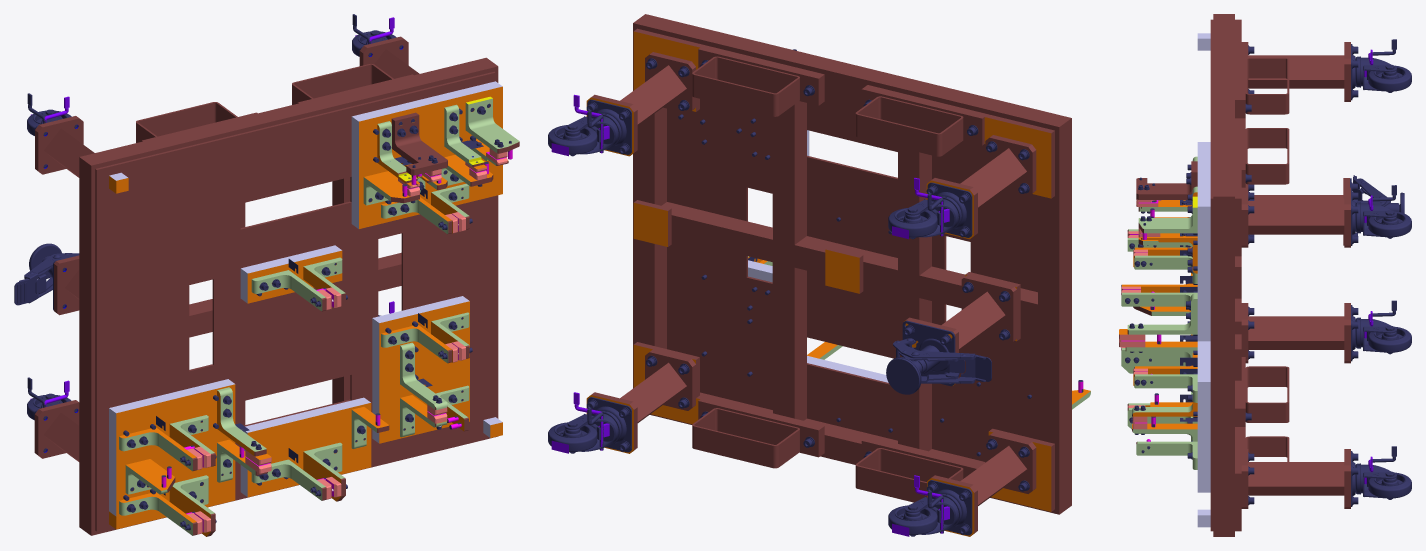
The model's file is TJ146706_D-SPAR+RIB-KUMITSUKE_K00_261102_JIG.obj.
3 renders of one model, left to right at view 1: azimuth 30°, elevation 25°; view 2: azimuth 150°, elevation 25°; view 3: azimuth 270°, elevation 25°, orthographic. The views are drawn at different scales.
Parts seen in each view (by area): view 1: Shell_009, Shell_017, Shell_021, Shell_019, Shell_000, Shell_002, Shell_018, Shell_020, Shell_033, Shell_041, Shell_428, Shell_004 (+34 smaller); view 2: Shell_009, Shell_002, Shell_004, Shell_000, Shell_003, Shell_008, Shell_041, Shell_049, Shell_033, Shell_006, Shell_025, Shell_011 (+35 smaller); view 3: Shell_003, Shell_000, Shell_072, Shell_087, Shell_102, Shell_057, Shell_021, Shell_019, Shell_009, Shell_041, Shell_033, Shell_025 (+41 smaller).
Boxes of the visible parts, x1=… form: Shell_009: x1=95, y1=71, x2=495, y2=531; Shell_017: x1=109, y1=379, x2=235, y2=529; Shell_021: x1=351, y1=81, x2=502, y2=228; Shell_019: x1=372, y1=296, x2=469, y2=443; Shell_000: x1=80, y1=57, x2=497, y2=168; Shell_002: x1=79, y1=157, x2=95, y2=535; Shell_018: x1=240, y1=397, x2=371, y2=497; Shell_020: x1=240, y1=245, x2=342, y2=303; Shell_033: x1=292, y1=64, x2=393, y2=104; Shell_041: x1=136, y1=102, x2=237, y2=142; Shell_428: x1=391, y1=112, x2=447, y2=175; Shell_004: x1=189, y1=252, x2=401, y2=337; Shell_009: x1=667, y1=92, x2=1037, y2=461; Shell_002: x1=1038, y1=118, x2=1071, y2=514; Shell_004: x1=661, y1=202, x2=1037, y2=326; Shell_000: x1=633, y1=14, x2=1071, y2=130; Shell_003: x1=633, y1=23, x2=666, y2=388; Shell_008: x1=773, y1=262, x2=806, y2=420; Shell_041: x1=855, y1=96, x2=963, y2=156; Shell_049: x1=692, y1=408, x2=799, y2=468; Shell_033: x1=692, y1=56, x2=799, y2=116; Shell_006: x1=773, y1=101, x2=806, y2=244; Shell_025: x1=855, y1=448, x2=963, y2=502; Shell_011: x1=864, y1=85, x2=1054, y2=198; Shell_003: x1=1213, y1=196, x2=1234, y2=536; Shell_000: x1=1213, y1=14, x2=1234, y2=196; Shell_072: x1=1248, y1=316, x2=1344, y2=349; Shell_087: x1=1248, y1=201, x2=1344, y2=234; Shell_102: x1=1248, y1=462, x2=1344, y2=495; Shell_057: x1=1248, y1=55, x2=1344, y2=88; Shell_021: x1=1197, y1=142, x2=1210, y2=305; Shell_019: x1=1197, y1=341, x2=1210, y2=492; Shell_009: x1=1210, y1=19, x2=1213, y2=531; Shell_041: x1=1245, y1=57, x2=1289, y2=114; Shell_033: x1=1245, y1=128, x2=1289, y2=184; Shell_025: x1=1245, y1=366, x2=1289, y2=422.
Bounding box in the file's own units: 990 × 860 × 671.
